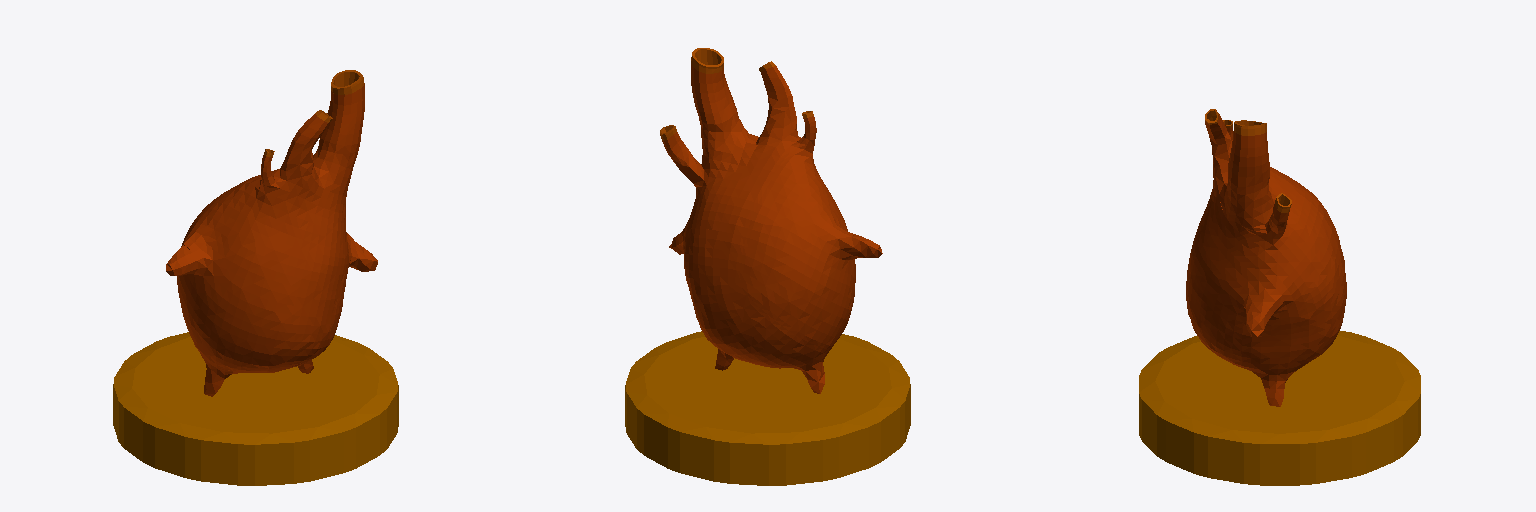
File: CoralGuyTrophy.obj
3 views of the same model, side by side, from view 1: azimuth 30°, elevation 25°; view 2: azimuth 150°, elevation 25°; view 3: azimuth 270°, elevation 25° (orthographic).
Visible parts, largest first — view 1: little_Mush2_007, Cylinder; view 2: little_Mush2_007, Cylinder; view 3: Cylinder, little_Mush2_007.
Part boxes in pixels (x1,y1,x2,y2): little_Mush2_007: (166,70,377,396); Cylinder: (113,332,398,485); little_Mush2_007: (660,48,882,393); Cylinder: (625,331,910,485); Cylinder: (1139,331,1420,485); little_Mush2_007: (1186,109,1346,406).
Bounding box in the file's own units: 0.4021 × 0.5439 × 0.4021.